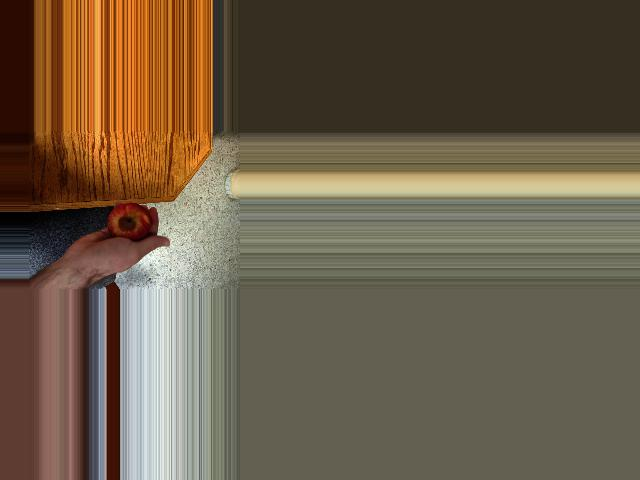apple: (103, 201, 153, 244)
